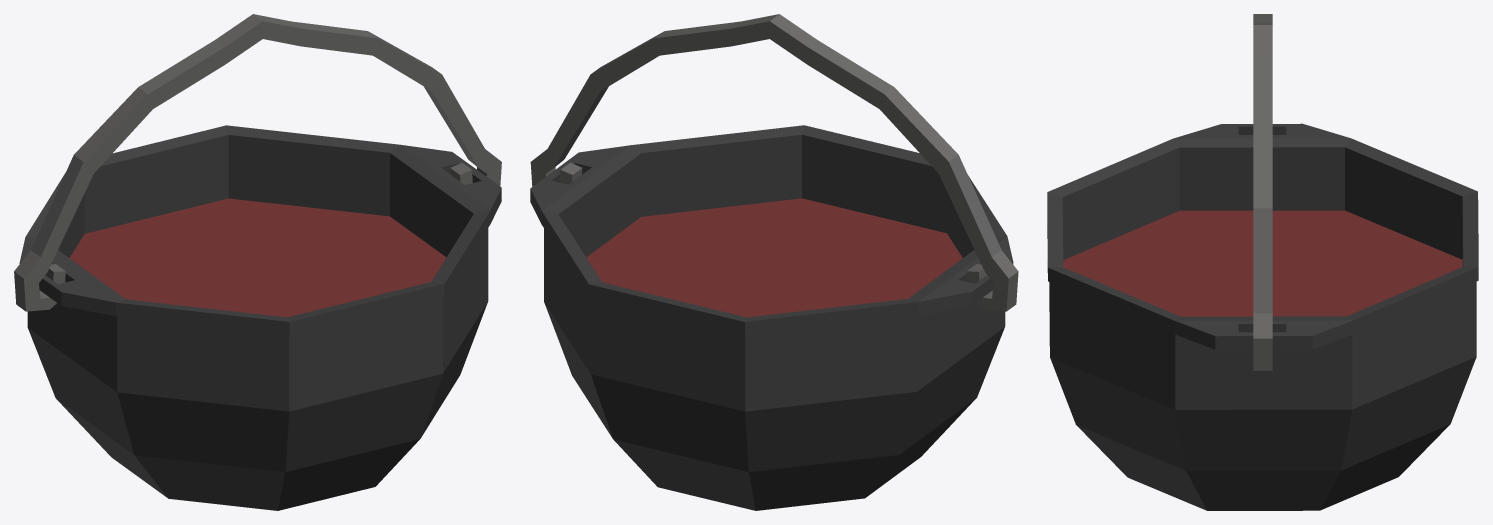
File: Cauldron_2.fbx
3 views of the same model, side by side, from view 1: azimuth 30°, elevation 25°; view 2: azimuth 150°, elevation 25°; view 3: azimuth 270°, elevation 25° (orthographic).
Visible parts, largest first — view 1: cauldron, Handle_for_cauldron; view 2: cauldron, Handle_for_cauldron; view 3: cauldron, Handle_for_cauldron.
Boxes of the visible parts, box(x1,y1,x2,y2) form: cauldron: box(19, 125, 501, 510); Handle_for_cauldron: box(14, 14, 501, 311); cauldron: box(530, 125, 1013, 510); Handle_for_cauldron: box(530, 14, 1018, 311); cauldron: box(1047, 123, 1478, 510); Handle_for_cauldron: box(1253, 14, 1272, 370).
Size of the model in its own units: 43.41 by 37.44 by 34.17.
